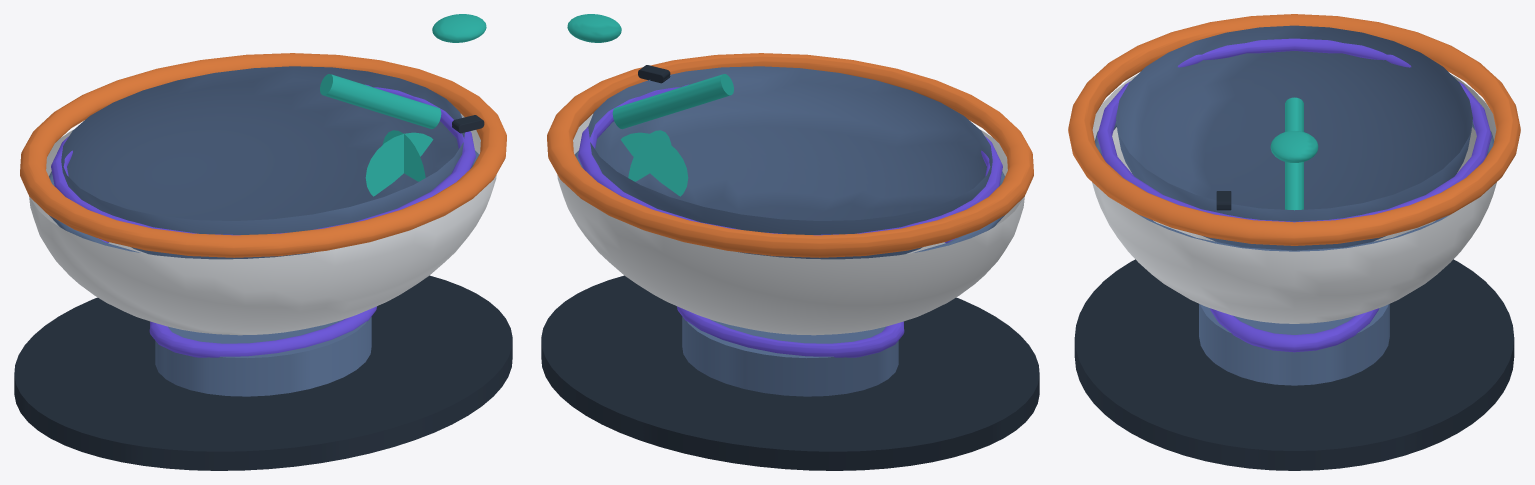
File: 0650_四大发明图鉴_罗盘.glb
The picture shows the model from 3 angles, left to right: view 1: azimuth 30°, elevation 25°; view 2: azimuth 150°, elevation 25°; view 3: azimuth 270°, elevation 25°; orthographic projection. The views are drawn at different scales.
Visible parts, largest first — view 1: card_0650; view 2: card_0650; view 3: card_0650.
Boxes of the visible parts, <box> form: card_0650: <box>14,14,512,470</box>; card_0650: <box>541,14,1039,470</box>; card_0650: <box>1068,14,1520,470</box>.
Bounding box in the file's own units: 1.52 × 1 × 1.28.
